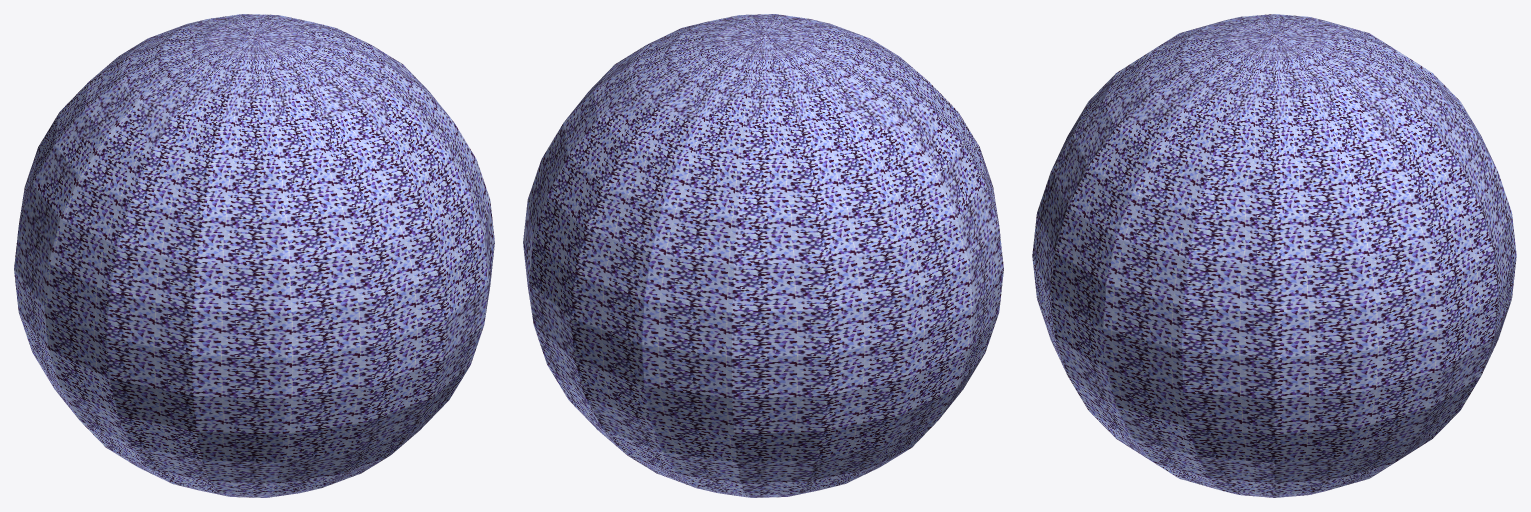
The model's file is skysphere.obj.
3 views of the same model, side by side, from view 1: azimuth 30°, elevation 25°; view 2: azimuth 150°, elevation 25°; view 3: azimuth 270°, elevation 25° (orthographic).
Parts seen in each view (by area): view 1: SkySphere; view 2: SkySphere; view 3: SkySphere.
Part boxes in pixels (x1,y1,x2,y2): SkySphere: (14,14,494,497); SkySphere: (523,14,1003,497); SkySphere: (1032,14,1516,497).
Size of the model in its own units: 2 by 2 by 2.
Materials: 1 (1 with a texture image).
